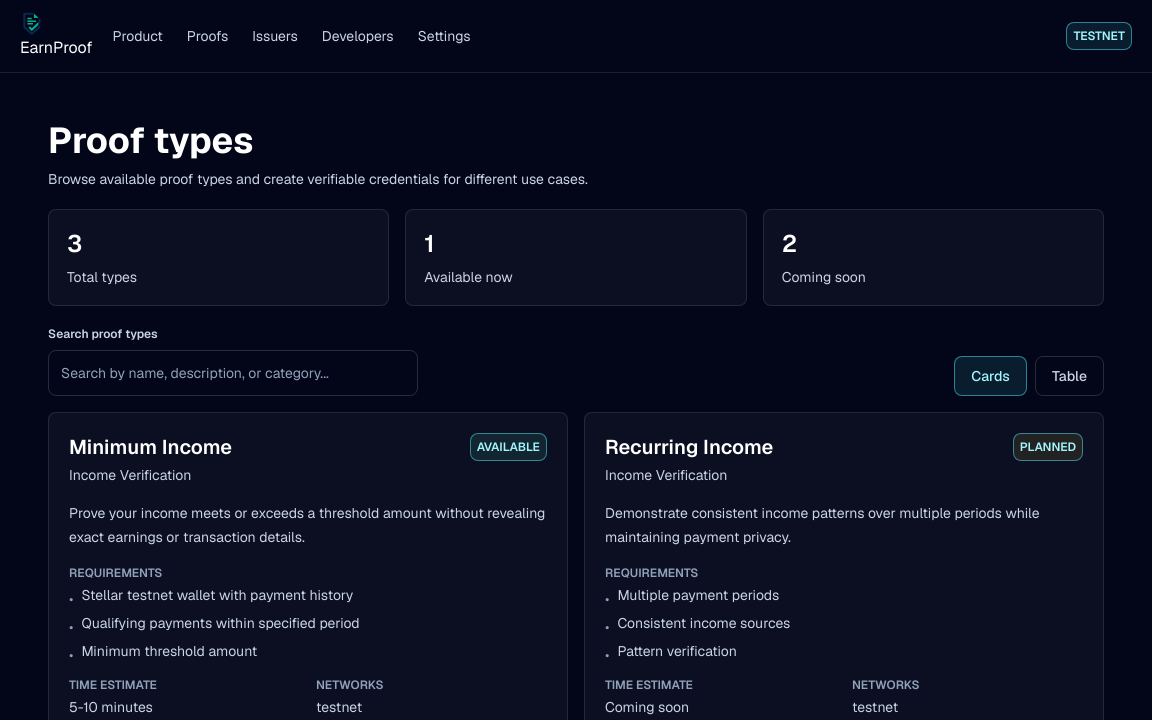
Test: ProofTypesPage › switches between cards and table view
// Switch to table view
Click the button "Table".
click(1069, 376)  # box 1035,356 -> 1104,396
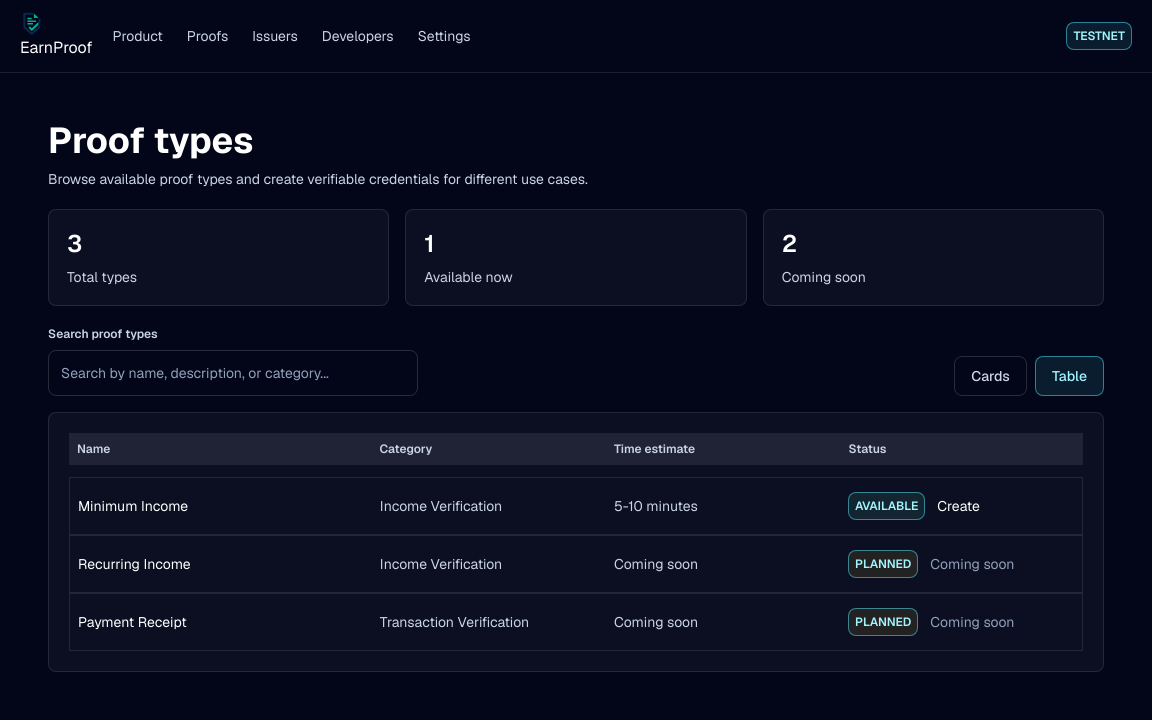
Expected: the text "Name" is shown, 77,441 -> 110,457
Expected: the text "Category" is shown, 380,441 -> 432,457
Expected: the text "Status" is shown, 848,441 -> 886,457
